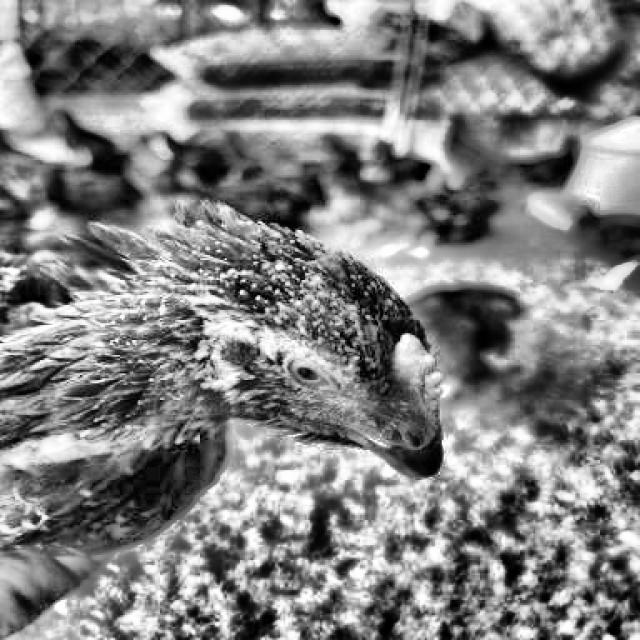Healthy: (265, 346, 342, 406)
